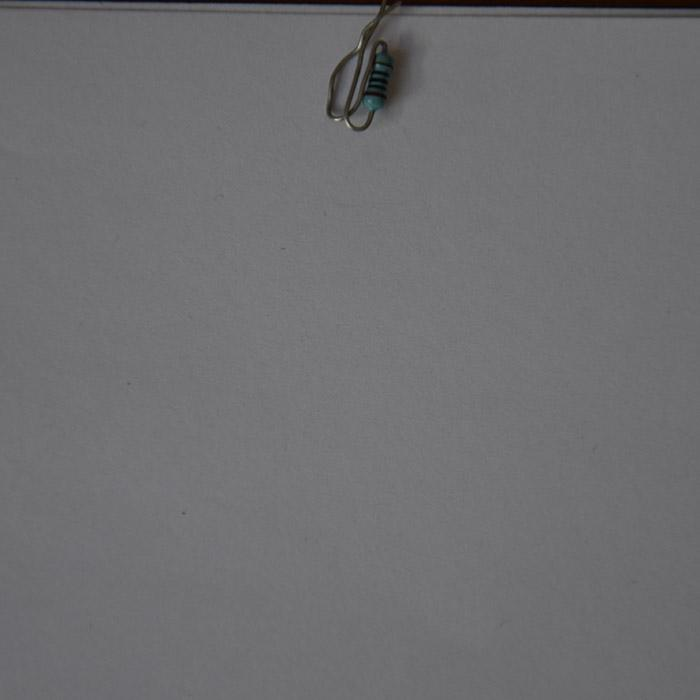resistor: (361, 47, 394, 112)
